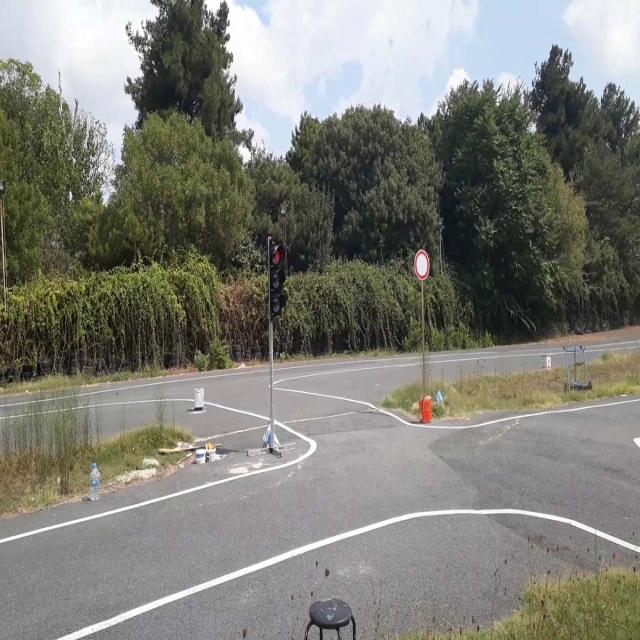kirmizi: (269, 245, 284, 316)
